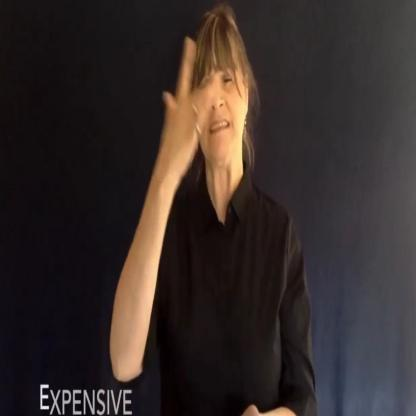Expensive: (147, 41, 288, 416)
